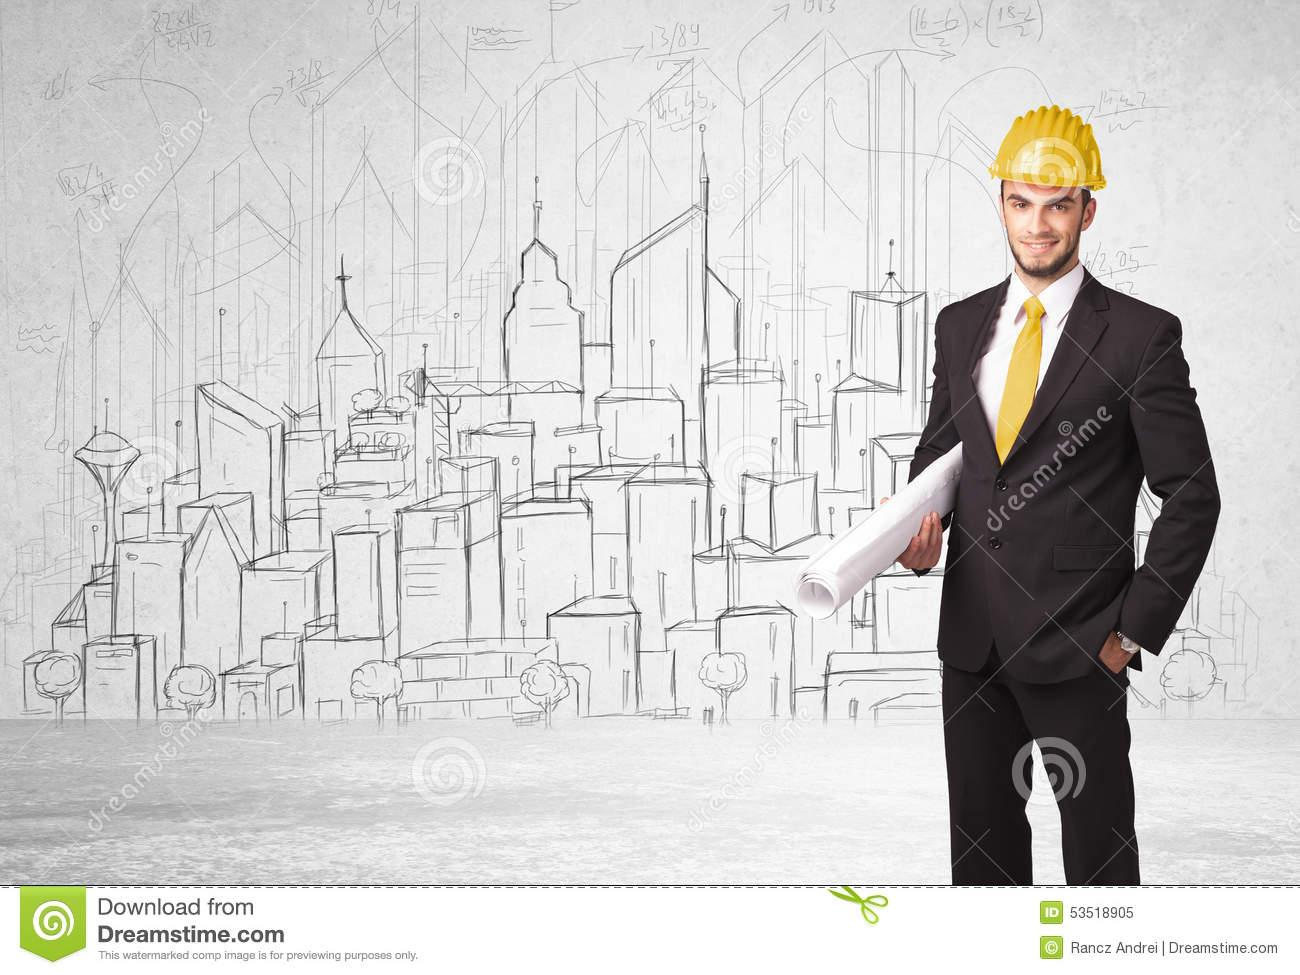helmet: (991, 104, 1107, 190)
